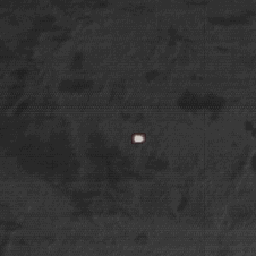Target: (131, 134, 146, 143)
